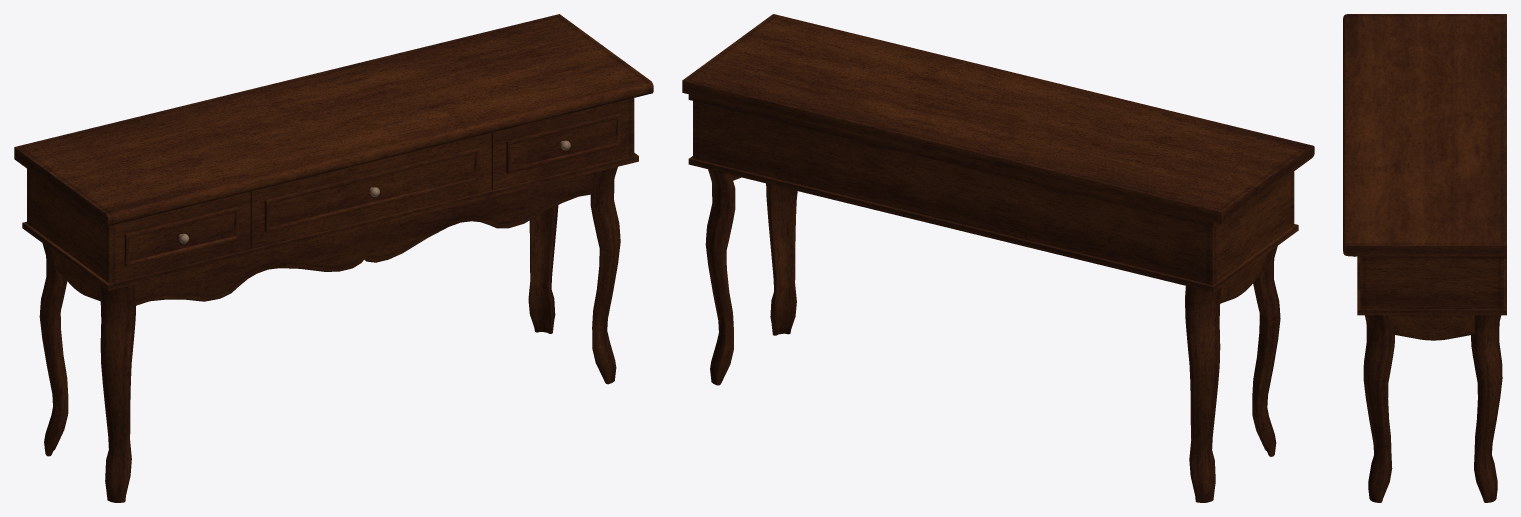
The model's file is TableRetro03.FBX.
The picture shows the model from 3 angles, left to right: view 1: azimuth 30°, elevation 25°; view 2: azimuth 150°, elevation 25°; view 3: azimuth 270°, elevation 25°; orthographic projection. The views are drawn at different scales.
Visible parts, largest first — view 1: TableRetro03; view 2: TableRetro03; view 3: TableRetro03.
Boxes of the visible parts, left/top/right/bottom form: TableRetro03: left=14, top=14, right=653, bottom=502; TableRetro03: left=682, top=14, right=1314, bottom=502; TableRetro03: left=1343, top=14, right=1506, bottom=502.
Bounding box in the file's own units: 1870 × 1000 × 559.
